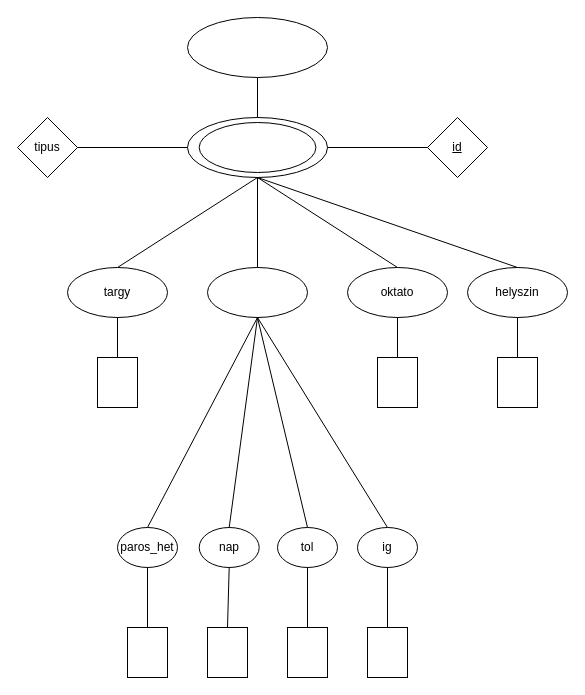
The diagram is 585 pixels wide and 695 high, and some of its shapes have lost their labels. Each missing label, with the box of its shape:
idopont: (206, 266, 308, 318)
ora: (198, 122, 316, 172)
W6Y0XZ: (186, 16, 328, 78)
